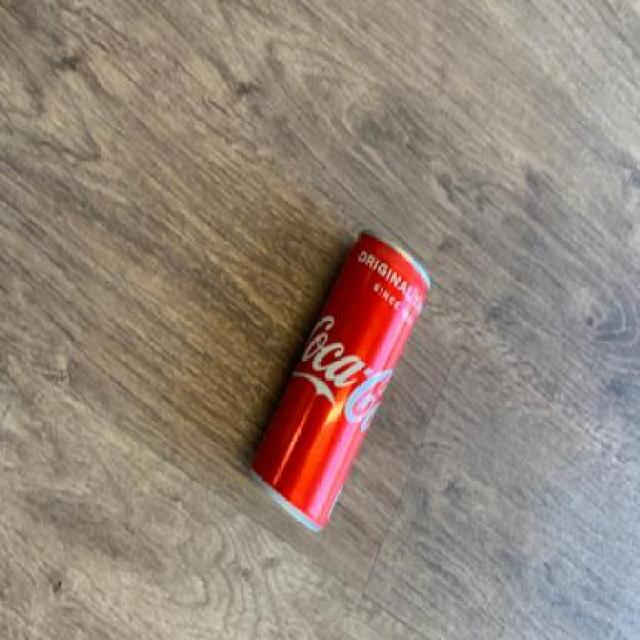Metal: (248, 226, 432, 534)
